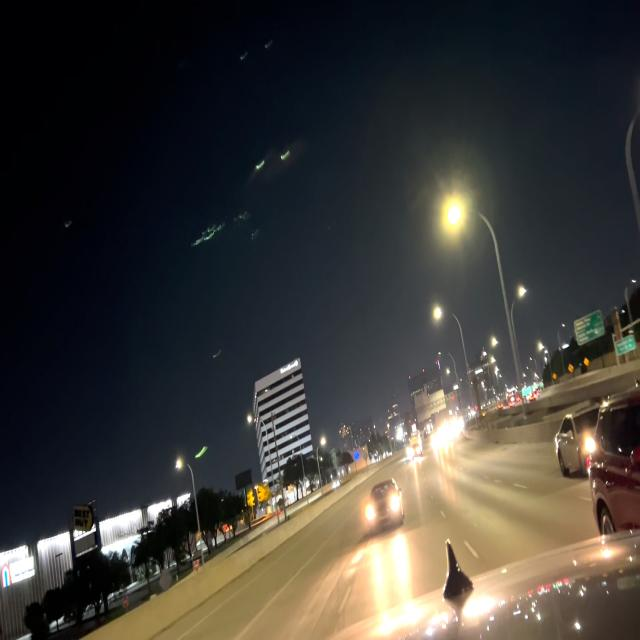back-of-sign: (414, 388, 447, 426)
